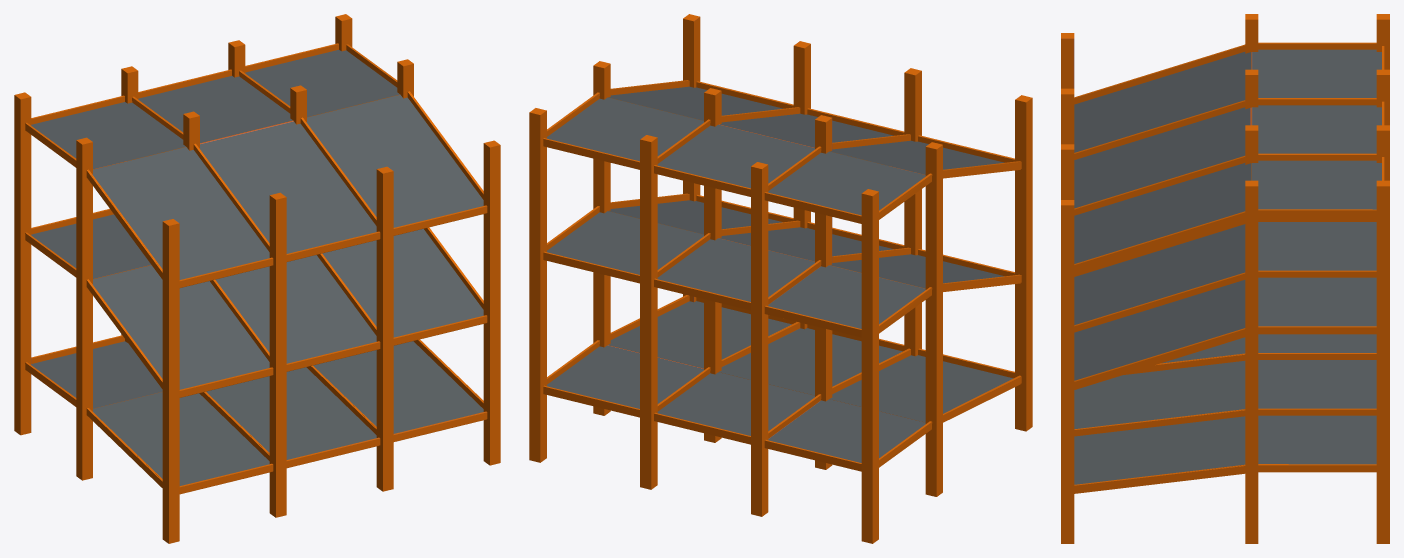
File: Container_Rack_3x3.dae
The picture shows the model from 3 angles, left to right: view 1: azimuth 30°, elevation 25°; view 2: azimuth 150°, elevation 25°; view 3: azimuth 270°, elevation 25°; orthographic projection. The views are drawn at different scales.
Visible parts, largest first — view 1: Container_Rack_3x3; view 2: Container_Rack_3x3; view 3: Container_Rack_3x3.
Part boxes in pixels (box(x1,y1,x2,y2)): Container_Rack_3x3: box(14, 14, 500, 543); Container_Rack_3x3: box(529, 14, 1032, 543); Container_Rack_3x3: box(1061, 14, 1389, 543).
Size of the model in its own units: 1.55 by 1.25 by 1.5.
Materials: 2 (2 with a texture image).
